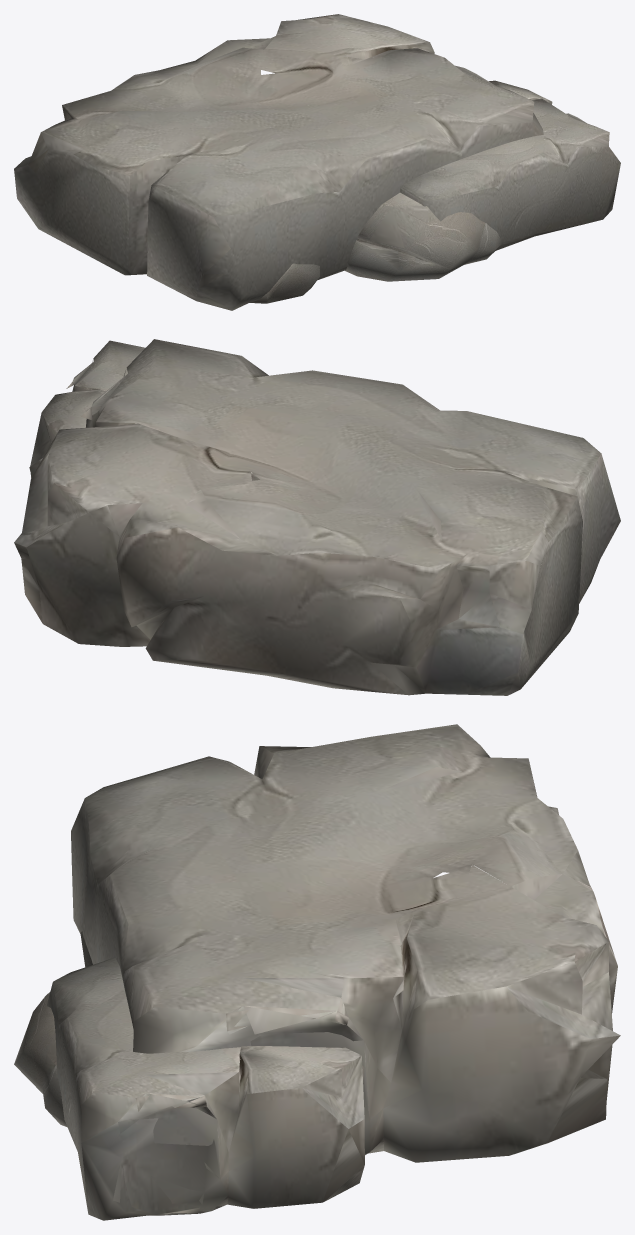
Rendered from cliff_slab.gltf.
3 renders of one model, top to bottom at view 1: azimuth 30°, elevation 25°; view 2: azimuth 150°, elevation 25°; view 3: azimuth 270°, elevation 25°, orthographic. The views are drawn at different scales.
Visible parts, largest first — view 1: cliff_slab; view 2: cliff_slab; view 3: cliff_slab.
Boxes of the visible parts, bbox=[...] form: cliff_slab: bbox=[14, 14, 620, 310]; cliff_slab: bbox=[14, 339, 620, 695]; cliff_slab: bbox=[14, 724, 620, 1220].
Size of the model in its own units: 1.74 by 0.45 by 1.28.
1 material, 1 textured.
